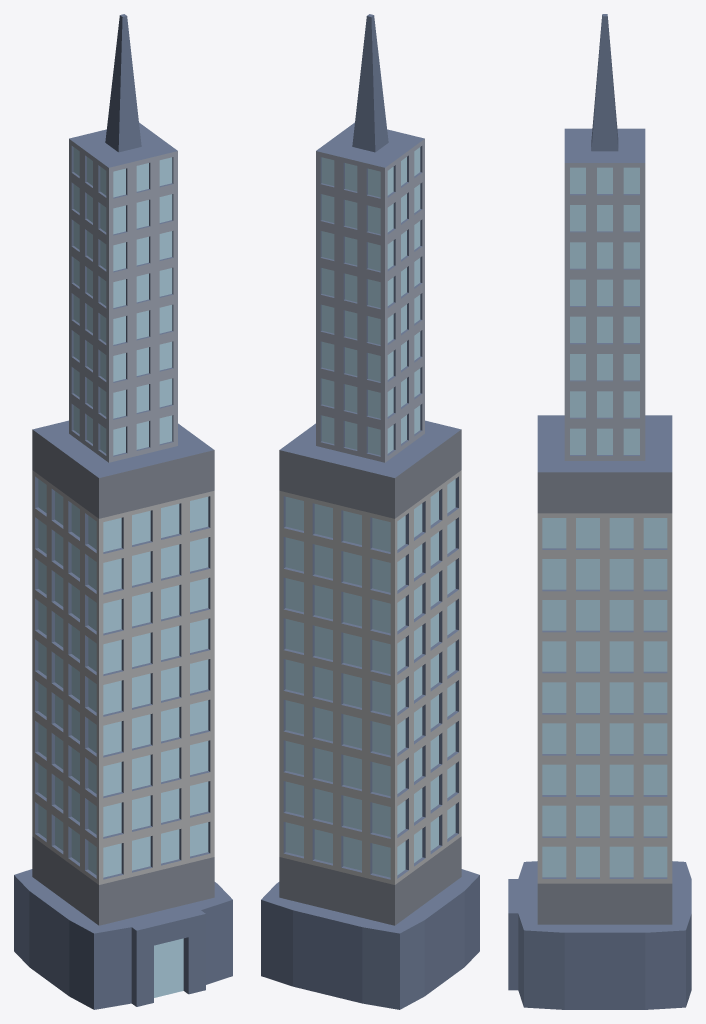
File: skyscraperA.fbx
3 views of the same model, side by side, from view 1: azimuth 30°, elevation 25°; view 2: azimuth 150°, elevation 25°; view 3: azimuth 270°, elevation 25° (orthographic).
Parts seen in each view (by area): view 1: SkyscraperA; view 2: SkyscraperA; view 3: SkyscraperA.
Boxes of the visible parts, <box> form: SkyscraperA: <box>14,14,232,1009</box>; SkyscraperA: <box>261,14,479,1009</box>; SkyscraperA: <box>508,14,691,1009</box>.
Bounding box in the file's own units: 1351 × 8239 × 1428.
